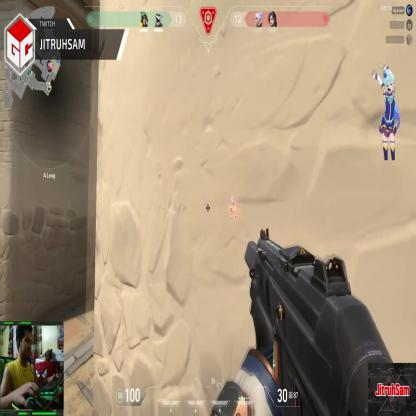enemy: (228, 196, 236, 220)
enemy_head: (231, 196, 234, 203)
